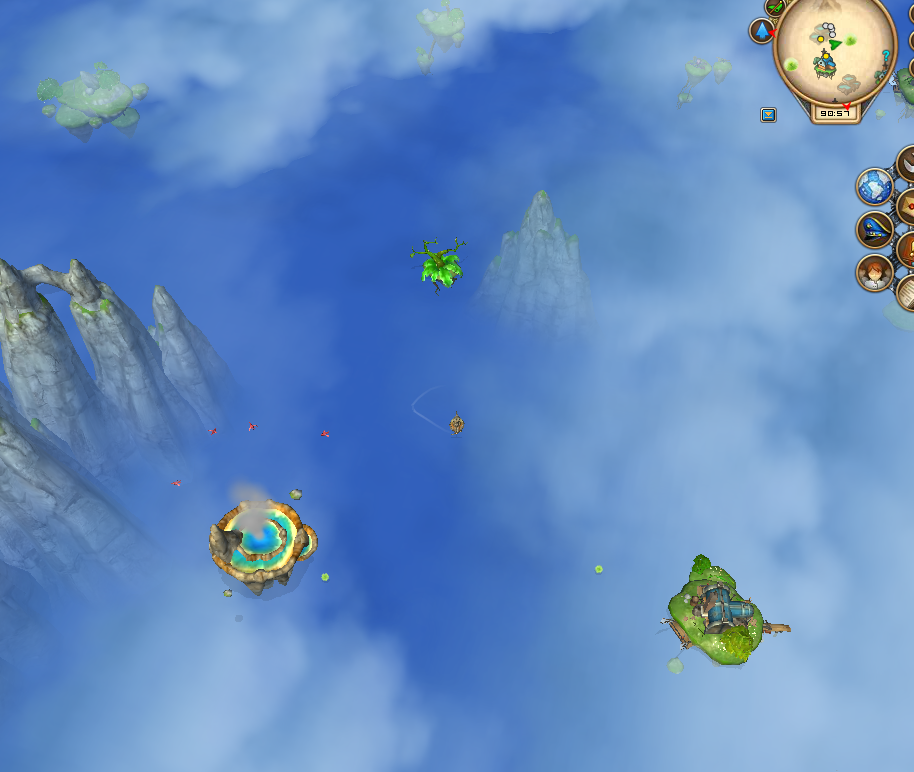dandelion-empty: (407, 225, 473, 301)
fluff: (590, 561, 608, 577), (315, 567, 333, 583)
